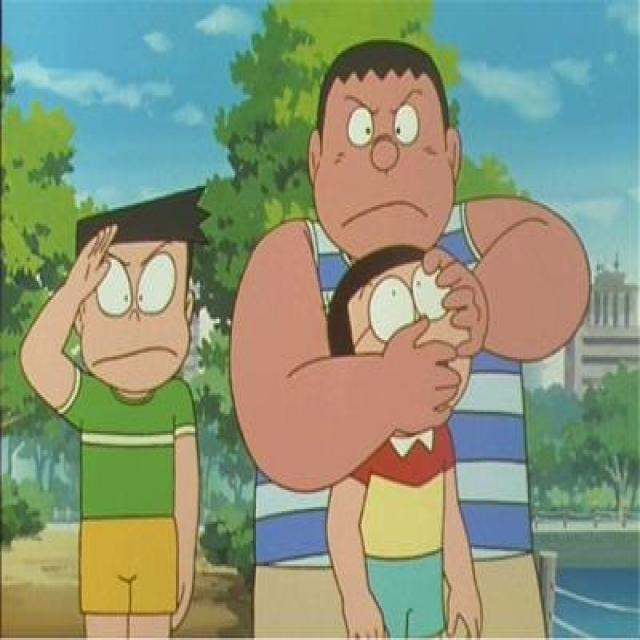jaian: (308, 34, 458, 274)
suneo: (63, 186, 204, 393)
